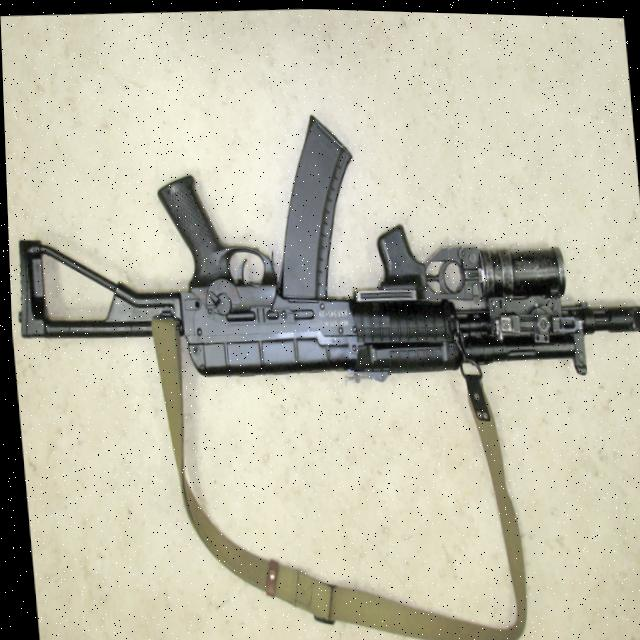firearm: (3, 89, 640, 405)
